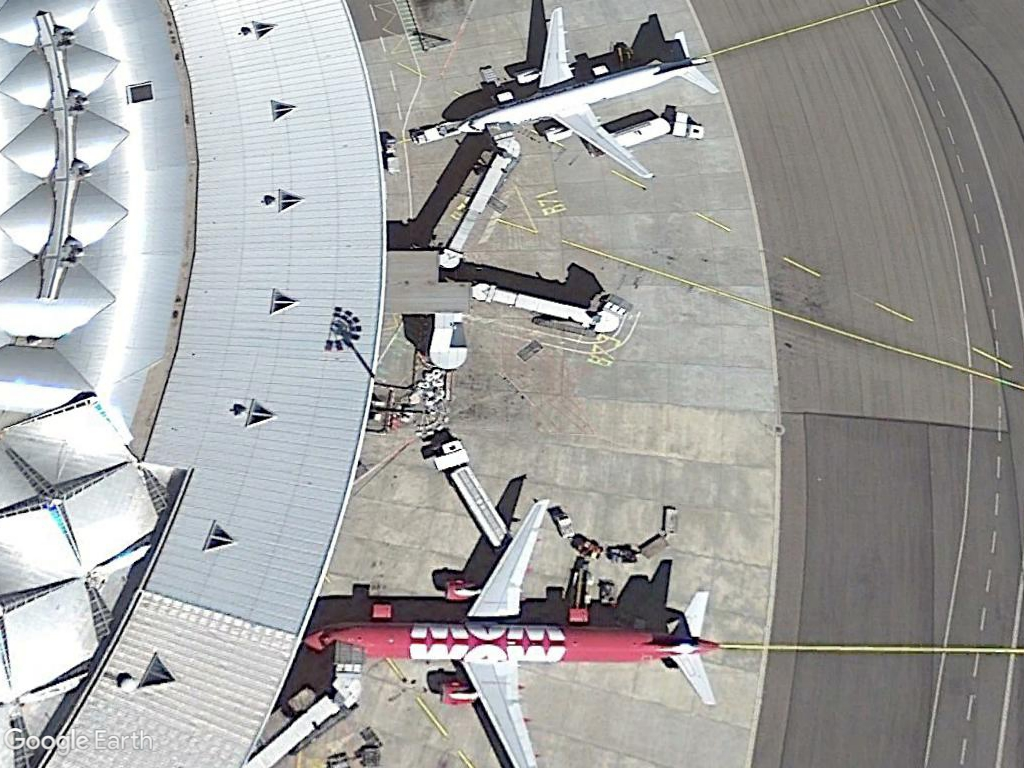airliner: (301, 493, 728, 765)
